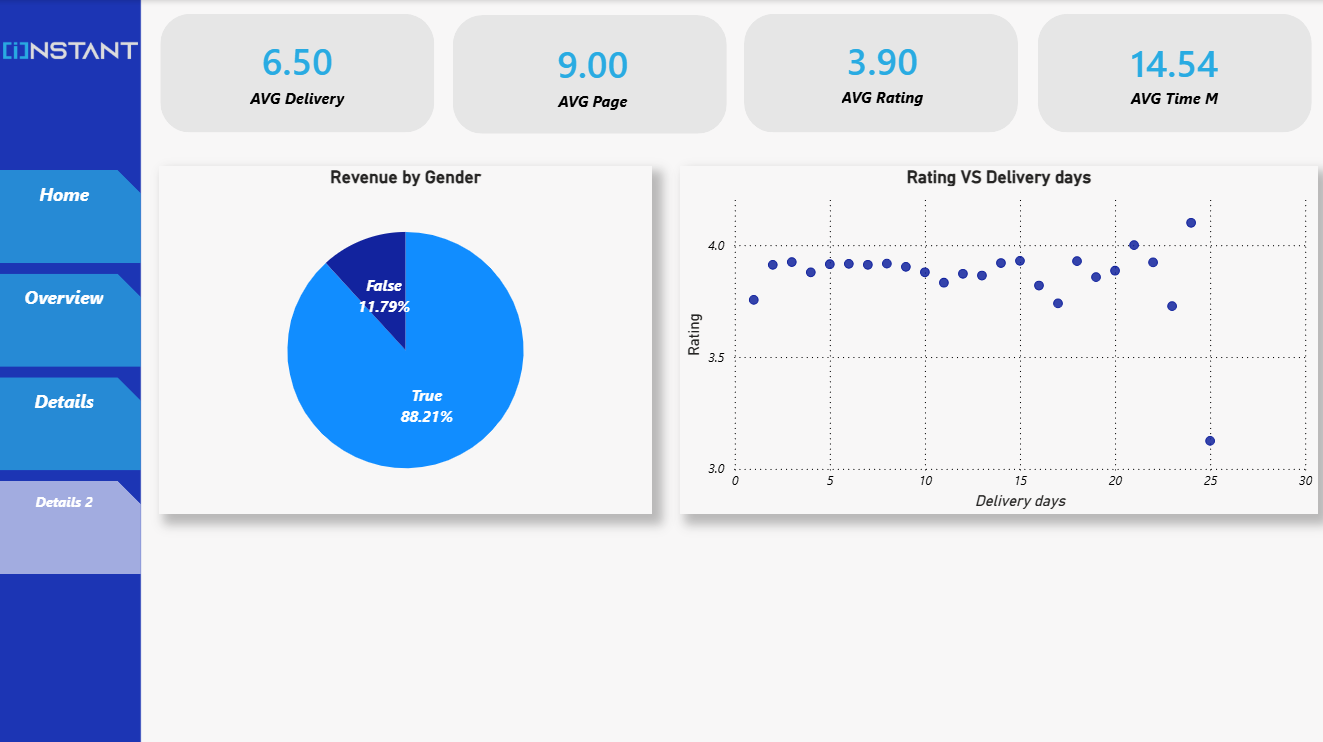

Layout of this report page (visuals, bound fields, positions):
{"tool":"powerbi","page":{"name":"Details 2 ","canvas":[1280,720],"ordinal":3},"visuals":[{"type":"pageNavigator","box":[0,164.4,137.1,390],"z":0},{"type":"shape","box":[1002.1,12.9,264.6,114.8],"z":1000},{"type":"cardVisual","fields":{"Data":["Ecommerce.AVG Time M"]},"box":[1002,16,264.2,108.2],"z":2000},{"type":"shape","box":[719,13,264.6,114.8],"z":3000},{"type":"cardVisual","fields":{"Data":["Ecommerce.AVG Rating"]},"box":[728.4,9.2,248.9,117.8],"z":4000},{"type":"shape","box":[437.4,14.5,264.6,114.8],"z":5000},{"type":"cardVisual","fields":{"Data":["Ecommerce.AVG Page"]},"box":[445.1,17.7,256.3,107.3],"z":6000},{"type":"shape","box":[156,13.8,264.6,114.8],"z":7000},{"type":"cardVisual","fields":{"Data":["Ecommerce.AVG Delivery"]},"box":[174.6,10,226.4,118.6],"z":8000},{"type":"pieChart","title":"Revenue by Gender","fields":{"Category":["Ecommerce.Is_Returning_Customer"],"Y":["CountNonNull(Ecommerce.Customer_ID)"]},"box":[154.3,160.5,476.2,336.1],"z":9000},{"type":"scatterChart","title":"Rating VS Delivery days","fields":{"Y":["Ecommerce.Customer_Rating"],"X":["Ecommerce.Delivery_Time_Days"]},"box":[657,160.5,615.4,336.1],"z":10000}]}

Visuals, with their boxes on the page's 1280x720 design canvas (x1, y1, x2, y2). These are canvas units, not pixel positions in the 1323x742 screenshot, which may show the page scaled, cropped or inside an application window:
pageNavigator: <region>0, 164, 137, 554</region>
shape: <region>1002, 13, 1267, 128</region>
cardVisual - Ecommerce.AVG Time M: <region>1002, 16, 1266, 124</region>
shape: <region>719, 13, 984, 128</region>
cardVisual - Ecommerce.AVG Rating: <region>728, 9, 977, 127</region>
shape: <region>437, 14, 702, 129</region>
cardVisual - Ecommerce.AVG Page: <region>445, 18, 701, 125</region>
shape: <region>156, 14, 421, 129</region>
cardVisual - Ecommerce.AVG Delivery: <region>175, 10, 401, 129</region>
"Revenue by Gender" pieChart: <region>154, 160, 630, 497</region>
"Rating VS Delivery days" scatterChart: <region>657, 160, 1272, 497</region>
